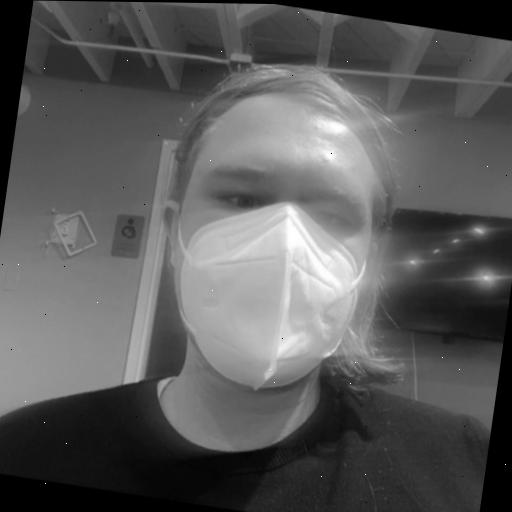mask: (84, 34, 442, 486)
